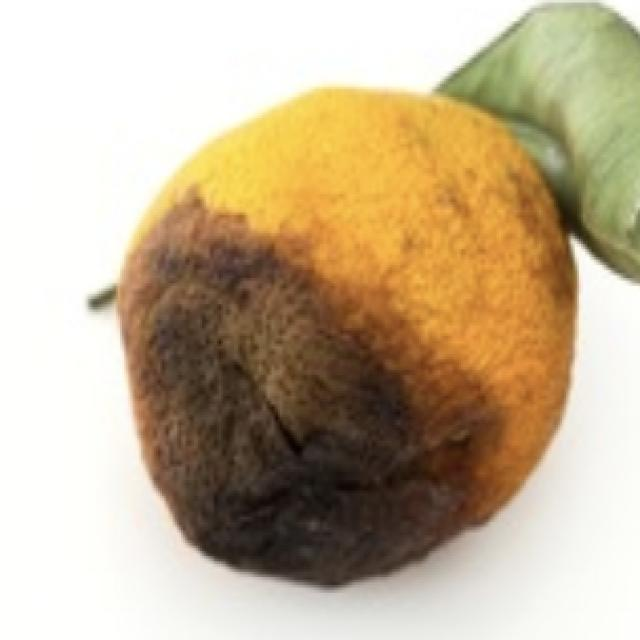rotten-orange: (111, 84, 580, 591)
